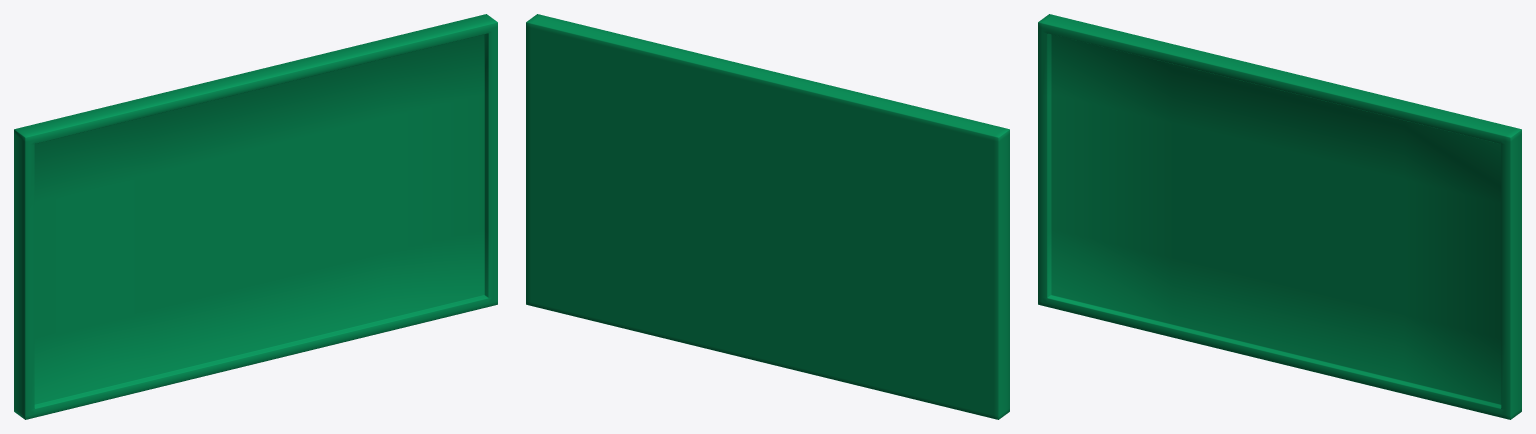
File: télé_low.FBX
3 views of the same model, side by side, from view 1: azimuth 30°, elevation 25°; view 2: azimuth 150°, elevation 25°; view 3: azimuth 330°, elevation 25° (orthographic).
Visible parts, largest first — view 1: télé; view 2: télé; view 3: télé.
Part boxes in pixels (x1,y1,x2,y2): télé: [14, 14, 497, 419]; télé: [526, 14, 1009, 419]; télé: [1038, 14, 1521, 419].
Size of the model in its own units: 68.9 by 39.37 by 2.91.
